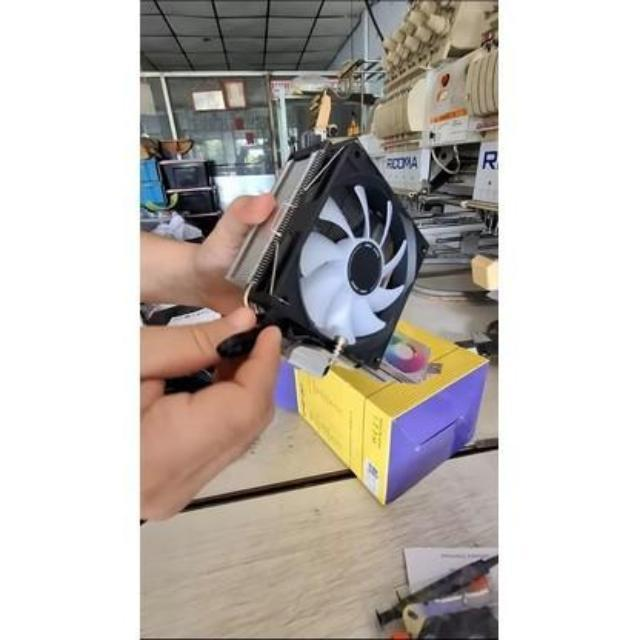CPU_Fan: (223, 136, 429, 382)
